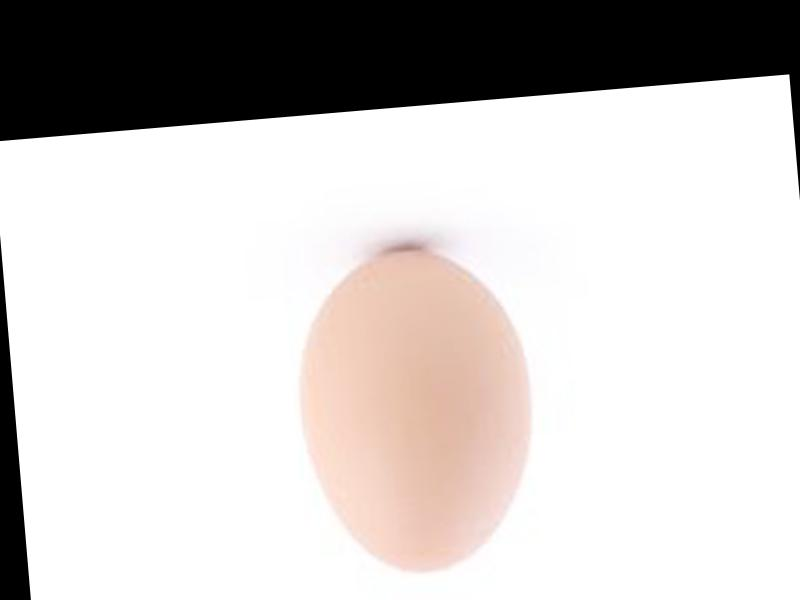Eggs: (291, 241, 548, 584)
